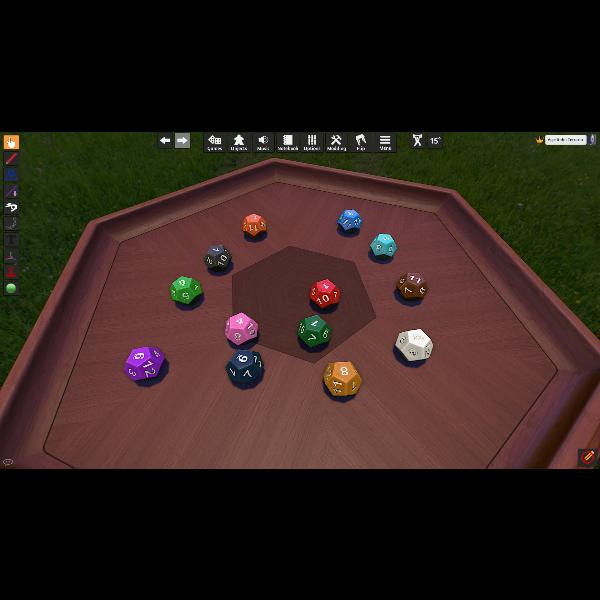d12: (125, 346, 166, 380), (226, 348, 264, 384), (323, 362, 359, 397), (395, 328, 432, 360), (225, 312, 257, 344), (169, 276, 202, 306), (308, 279, 338, 309), (396, 272, 428, 300), (298, 315, 326, 346), (204, 244, 230, 272), (369, 234, 395, 260), (242, 212, 266, 238), (337, 209, 361, 233)
